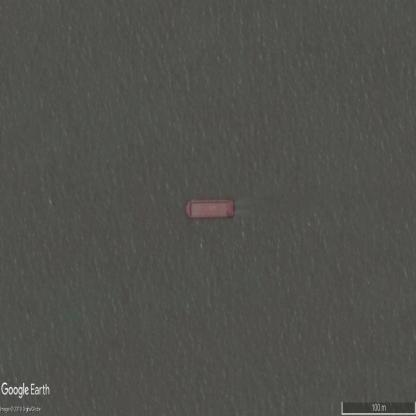ship: (184, 197, 236, 221)
